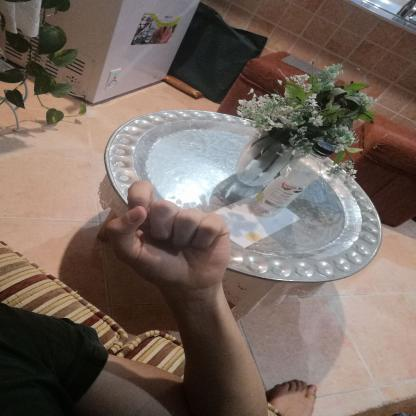FAA: (88, 172, 246, 302)
